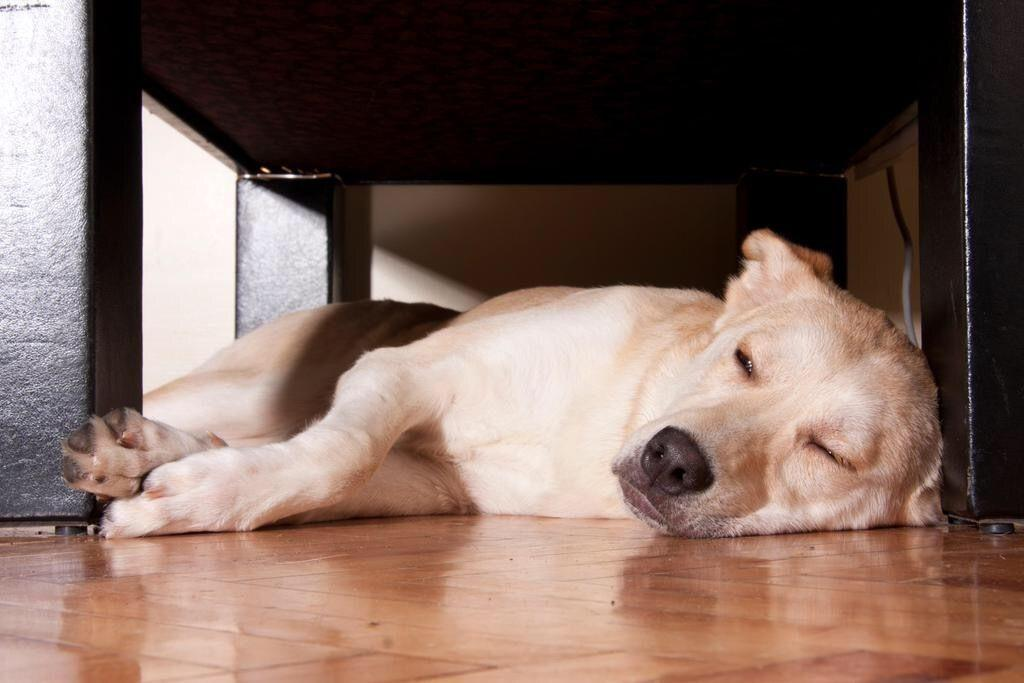adult_dog: (55, 225, 953, 541)
